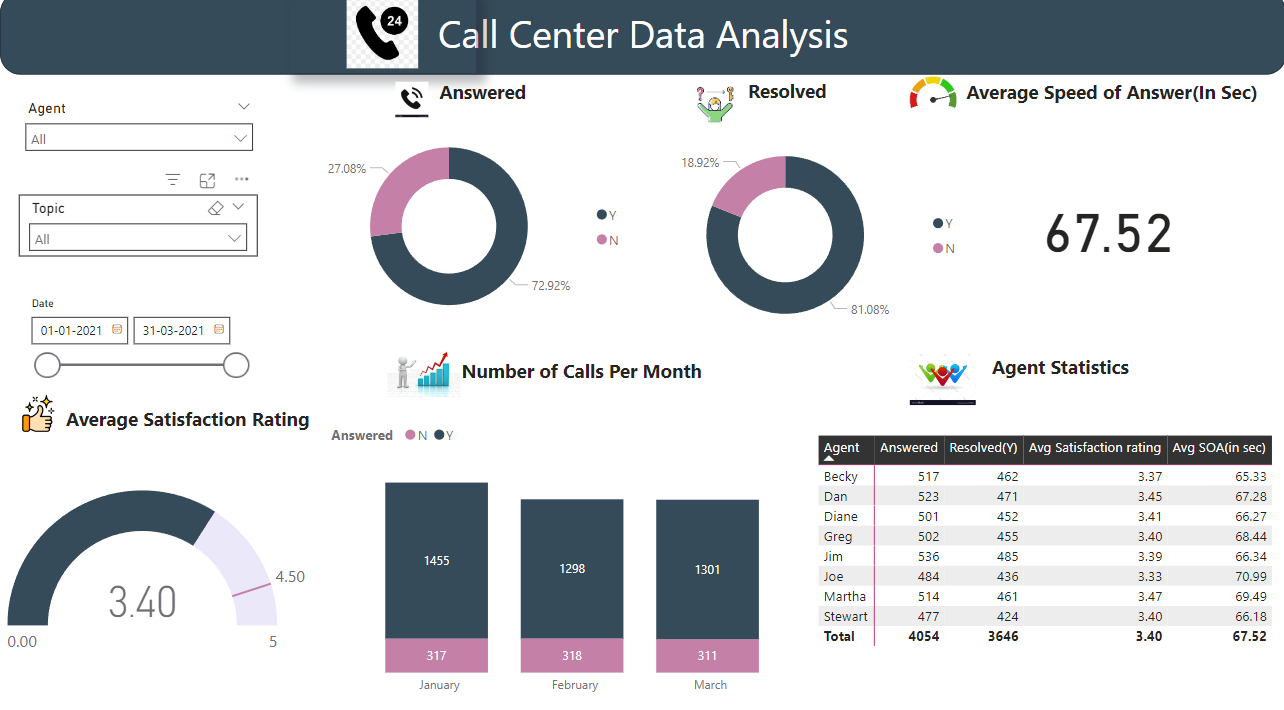

What the dashboard file says about the page in this screenshot:
{"tool":"powerbi","page":{"name":"Page 1","canvas":[1280,720],"ordinal":0},"visuals":[{"type":"slicer","fields":{"Values":["Sheet1.Agent"]},"box":[15.1,101.5,247,87.8],"z":0},{"type":"gauge","fields":{"Y":["Avg(Sheet1.Satisfaction rating)"],"MaxValue":["Max(Sheet1.Satisfaction rating)"]},"box":[2.7,451.5,311.5,255.2],"z":2000},{"type":"textbox","box":[9.6,406.2,315.6,45.3],"z":3000},{"type":"donutChart","fields":{"Category":["Sheet1.Answered (Y/N)"],"Y":["CountNonNull(Sheet1.Answered (Y/N))"]},"box":[631.2,127.6,334.8,227.8],"z":4000},{"type":"donutChart","fields":{"Category":["Sheet1.Resolved"],"Y":["CountNonNull(Sheet1.Resolved)"]},"box":[296.4,119.4,334.8,227.8],"z":5000},{"type":"card","fields":{"Values":["Avg(Sheet1.Speed of answer in seconds)"]},"box":[986.6,160.5,233.3,145.5],"z":6000},{"type":"columnChart","fields":{"Y":["CountNonNull(Sheet1.Answered (Y/N))"],"Category":["Sheet1.Date.Variation.Date Hierarchy.Month"],"Series":["Sheet1.Answered (Y/N)"]},"box":[325.2,419.9,495.4,286.8],"z":7000},{"type":"pivotTable","fields":{"Rows":["Sheet1.Agent"],"Values":["Sheet1.Answered","Sheet1.Resolved(Y)","Avg(Sheet1.Satisfaction rating)","Avg(Sheet1.Speed of answer in seconds)"]},"box":[809.6,436.4,461.1,270.3],"z":8000},{"type":"textbox","box":[380.1,82.3,226.4,45.3],"z":9000},{"type":"textbox","box":[687.5,81,172.9,49.4],"z":10000},{"type":"textbox","box":[956.4,82.3,314.2,37],"z":11000},{"type":"textbox","box":[407.5,359.5,304.6,60.4],"z":12000},{"type":"textbox","box":[966,355.4,188,64.5],"z":13000},{"type":"shape","box":[0,0,1280.3,82.3],"z":14000},{"type":"image","box":[286.8,0,186.6,81],"z":15000},{"type":"image","box":[15.1,388.3,46.7,61.7],"z":15001},{"type":"slicer","fields":{"Values":["Sheet1.Date"]},"box":[19.2,299.1,237.4,90.6],"z":15002},{"type":"image","box":[900.2,72.7,56.3,54.9],"z":15003},{"type":"image","box":[682,81,60.4,61.7],"z":15005},{"type":"image","box":[380.1,330.7,82.3,89.2],"z":15006},{"type":"image","box":[900.2,347.2,75.5,76.8],"z":15007},{"type":"image","box":[380.1,85.1,59,45.3],"z":15008},{"type":"slicer","fields":{"Values":["Sheet1.Topic"]},"box":[19.2,201.7,237.4,61.7],"z":15009}]}

Visuals, with their boxes in screenshot pixels (x1, y1, x2, y2), scaled from the page's 1280x720 canvas onto the 1284x710 screenshot:
slicer - Sheet1.Agent: {"x1": 15, "y1": 100, "x2": 263, "y2": 187}
gauge - Avg(Sheet1.Satisfaction rating) x Max(Sheet1.Satisfaction rating): {"x1": 3, "y1": 445, "x2": 315, "y2": 697}
textbox: {"x1": 10, "y1": 401, "x2": 326, "y2": 445}
donutChart - Sheet1.Answered (Y/N) x CountNonNull(Sheet1.Answered (Y/N)): {"x1": 633, "y1": 126, "x2": 969, "y2": 350}
donutChart - Sheet1.Resolved x CountNonNull(Sheet1.Resolved): {"x1": 297, "y1": 118, "x2": 633, "y2": 342}
card - Avg(Sheet1.Speed of answer in seconds): {"x1": 990, "y1": 158, "x2": 1224, "y2": 302}
columnChart - CountNonNull(Sheet1.Answered (Y/N)) x Sheet1.Date.Variation.Date Hierarchy.Month: {"x1": 326, "y1": 414, "x2": 823, "y2": 697}
pivotTable - Sheet1.Agent x Sheet1.Answered: {"x1": 812, "y1": 430, "x2": 1275, "y2": 697}
textbox: {"x1": 381, "y1": 81, "x2": 608, "y2": 126}
textbox: {"x1": 690, "y1": 80, "x2": 863, "y2": 129}
textbox: {"x1": 959, "y1": 81, "x2": 1275, "y2": 118}
textbox: {"x1": 409, "y1": 355, "x2": 714, "y2": 414}
textbox: {"x1": 969, "y1": 350, "x2": 1158, "y2": 414}
shape: {"x1": 0, "y1": 0, "x2": 1283, "y2": 81}
image: {"x1": 288, "y1": 0, "x2": 475, "y2": 80}
image: {"x1": 15, "y1": 383, "x2": 62, "y2": 444}
slicer - Sheet1.Date: {"x1": 19, "y1": 295, "x2": 257, "y2": 384}
image: {"x1": 903, "y1": 72, "x2": 959, "y2": 126}
image: {"x1": 684, "y1": 80, "x2": 745, "y2": 141}
image: {"x1": 381, "y1": 326, "x2": 464, "y2": 414}
image: {"x1": 903, "y1": 342, "x2": 979, "y2": 418}
image: {"x1": 381, "y1": 84, "x2": 440, "y2": 129}
slicer - Sheet1.Topic: {"x1": 19, "y1": 199, "x2": 257, "y2": 260}
